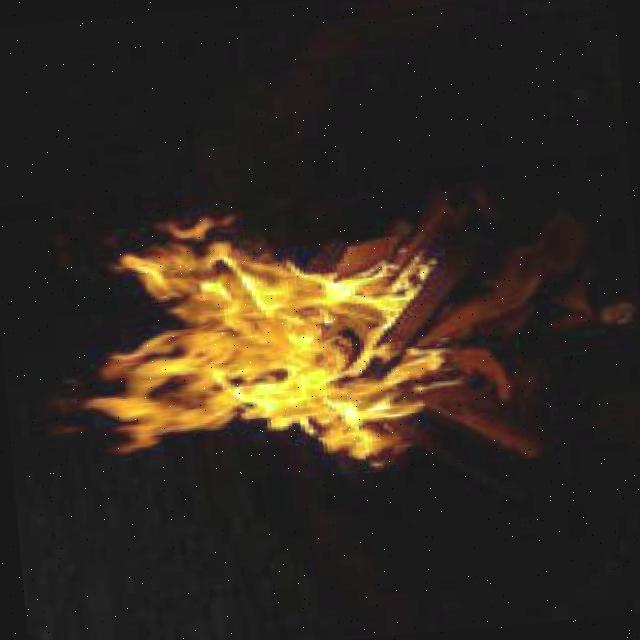fire: (73, 182, 474, 490)
